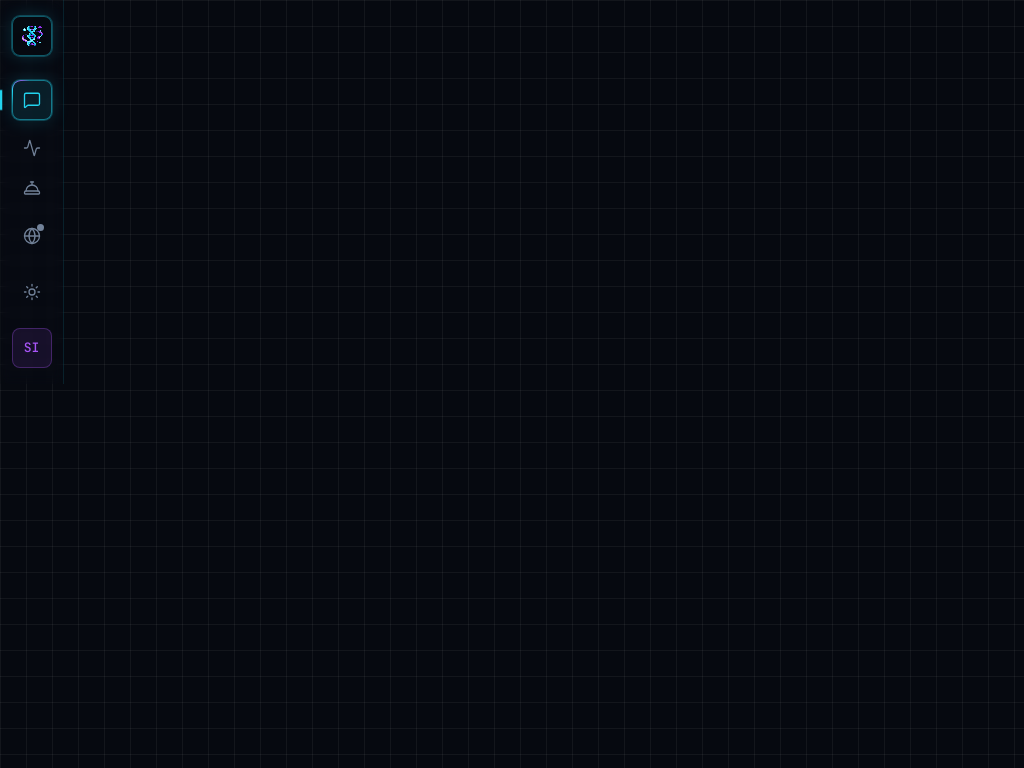
it: T4 IconRail 联网状态钮（契约 v0.7 web 族） › idle 态 popover：无连接详情，停止钮禁用（幂等无可停）
This screenshot has width=1024, height=768.
Step 1. Click the button with id "btn-web-status" → (32, 236), box [12,216,52,256]
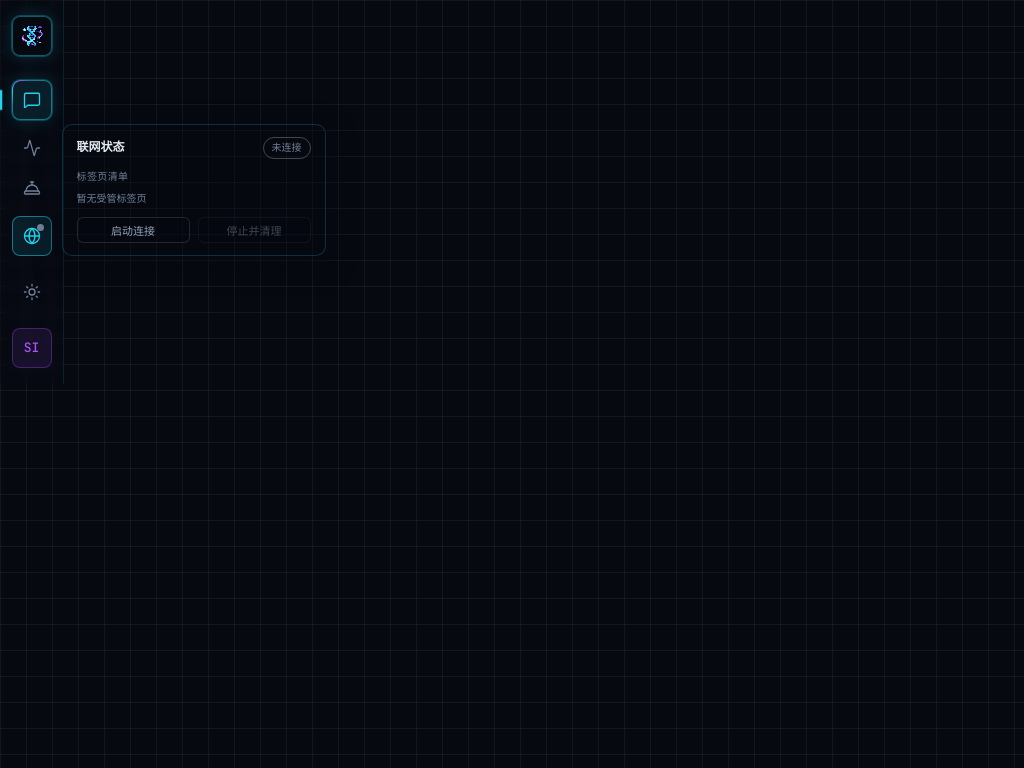
Expected: the dialog with class "web-pop" shows "未连接", [272,141,302,154]
Expected: the button with id "btn-web-stop" is disabled, [198,217,310,243]
